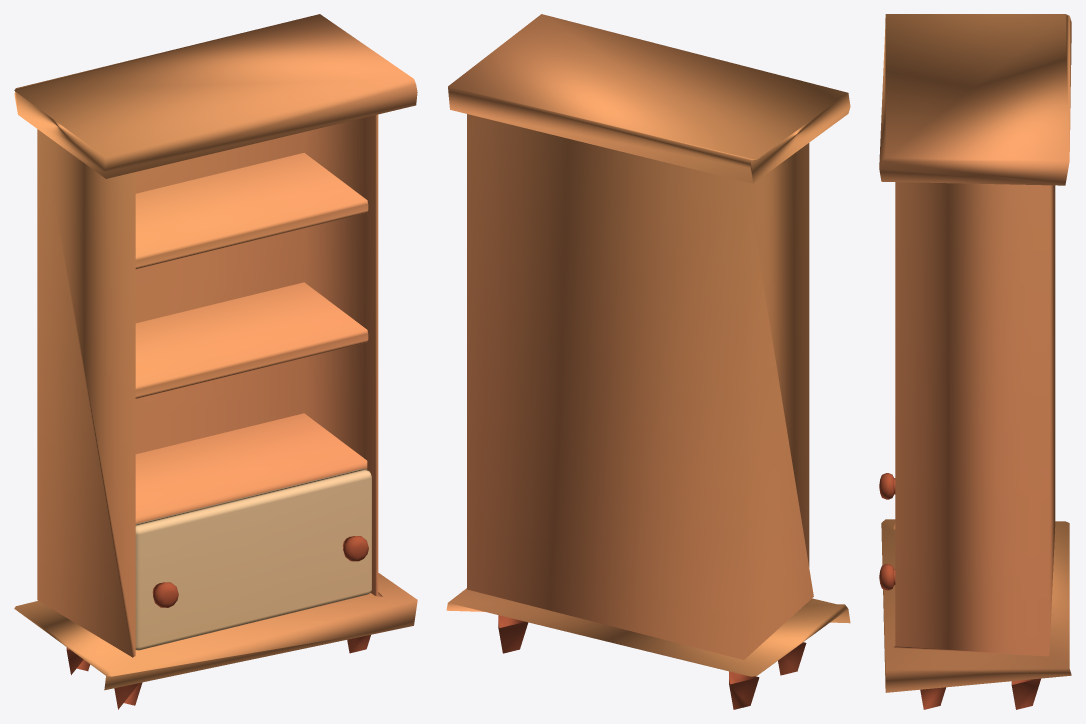
File: Closet_01.glb
3 renders of one model, left to right at view 1: azimuth 30°, elevation 25°; view 2: azimuth 150°, elevation 25°; view 3: azimuth 270°, elevation 25°, orthographic. The views are drawn at different scales.
Visible parts, largest first — view 1: Closet_01, Closet_01_Door; view 2: Closet_01; view 3: Closet_01, Closet_01_Door.
Boxes of the visible parts, x1=… form: Closet_01: x1=14, y1=14, x2=417, y2=709; Closet_01_Door: x1=135, y1=468, x2=371, y2=650; Closet_01: x1=446, y1=14, x2=850, y2=709; Closet_01: x1=879, y1=14, x2=1071, y2=709; Closet_01_Door: x1=879, y1=473, x2=895, y2=590.
Size of the model in its own units: 0.8641 by 1.52 by 0.4694.
Materials: 1 (1 with a texture image).
